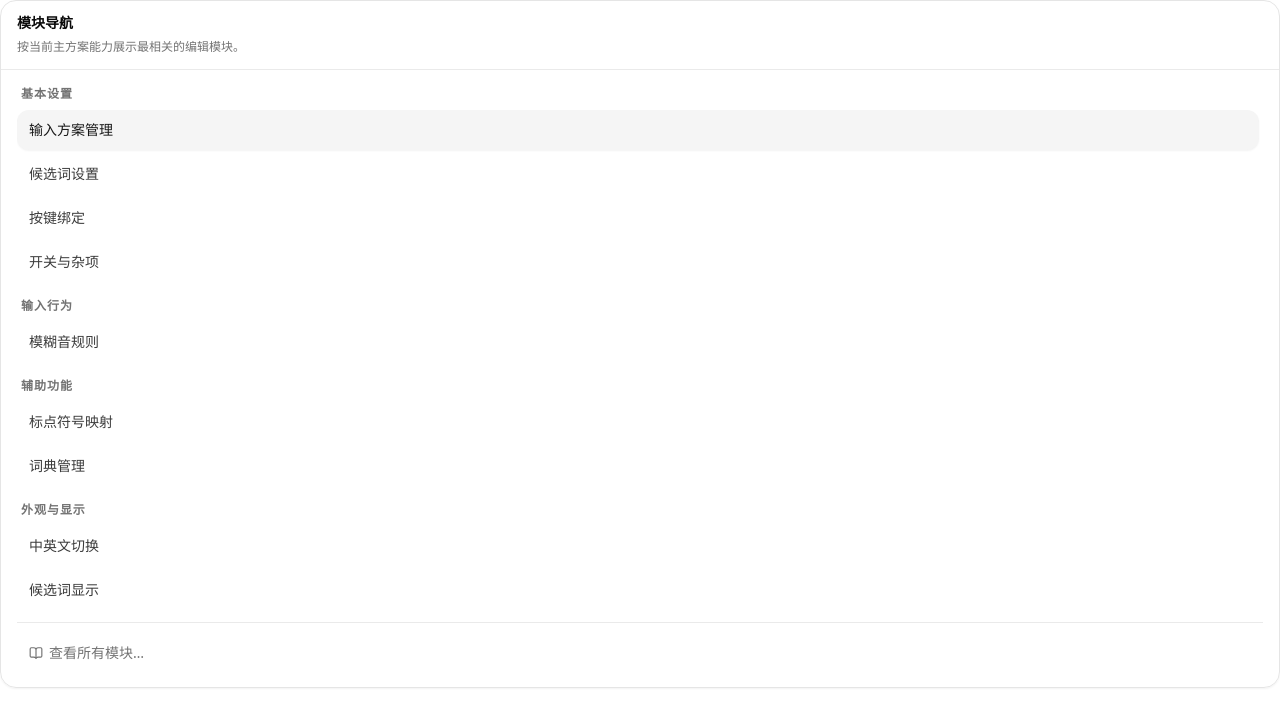
<EditorSidebar> › reveals non-applicable modules when showAll is enabled
Check: the button "Lua 扩展" is not shown
What coordinates should you click on to do the following:
click the button "查看所有模块…"
I would click on:
 (97, 652)
Its box is [17,635,1263,671].
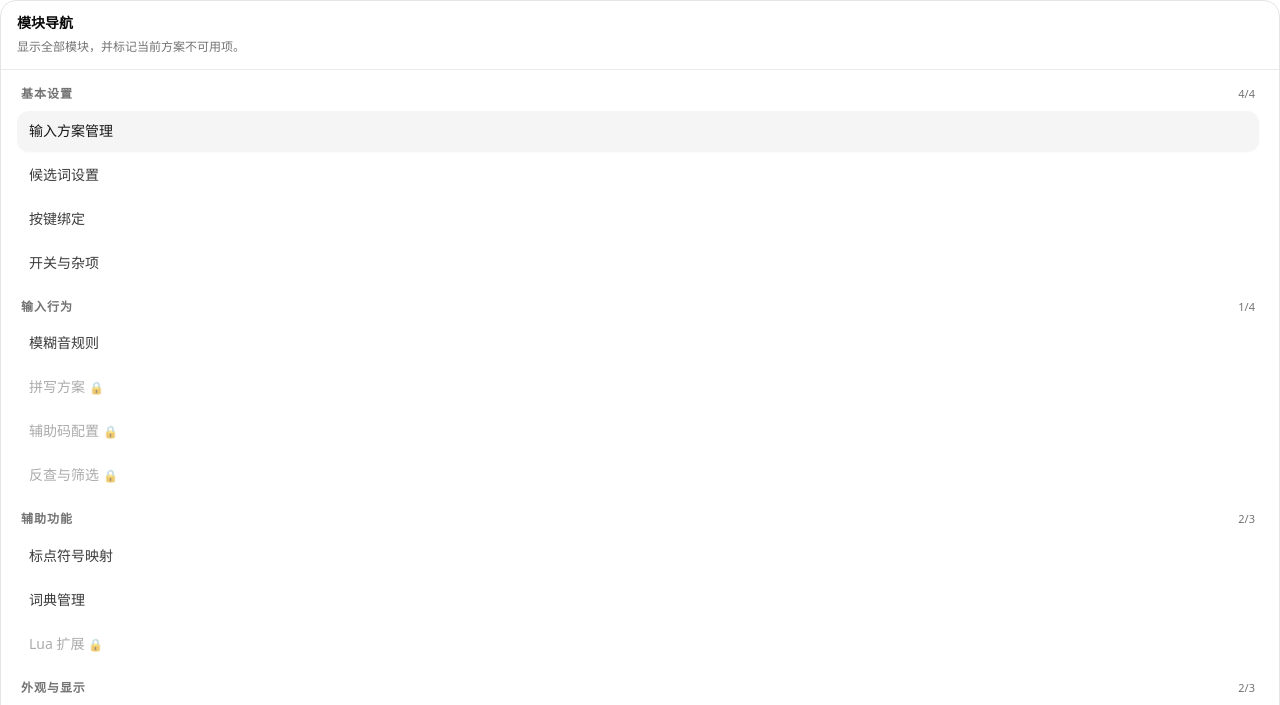
Check: the text "Lua 扩展" is shown, box [29,634,84,652]
Check: the 1st text "🔒" is shown, box [89,379,104,396]
